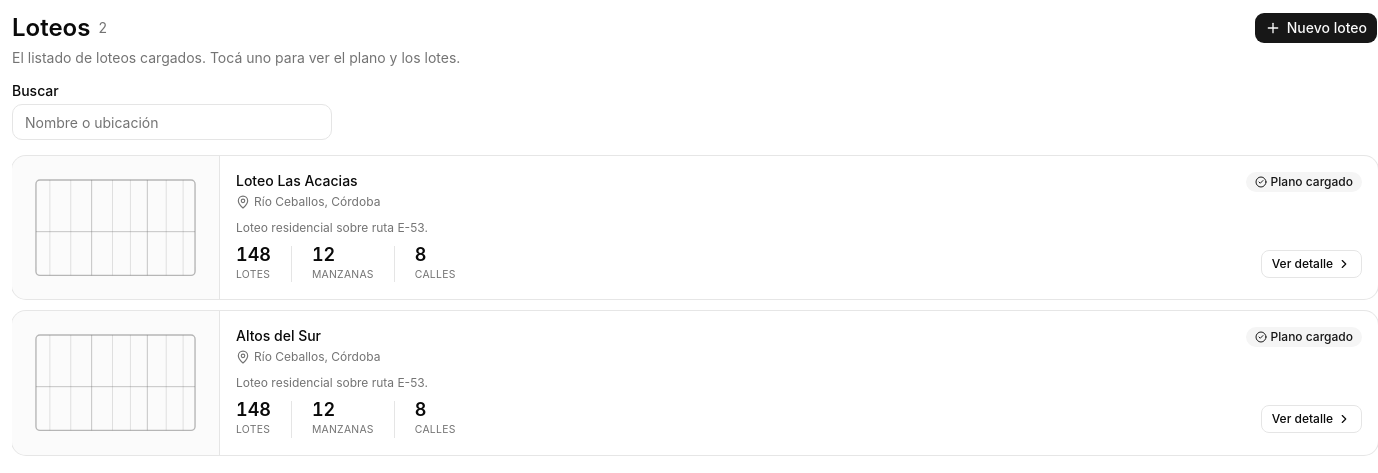
Scenario: LoteosListPage › filters the list through the search box
Expected: the link "Altos del Sur" is shown, [12,311,1377,455]
Type "acacias" into the search field labelled "Buscar" at x=172, y=122, box [12,104,332,140]
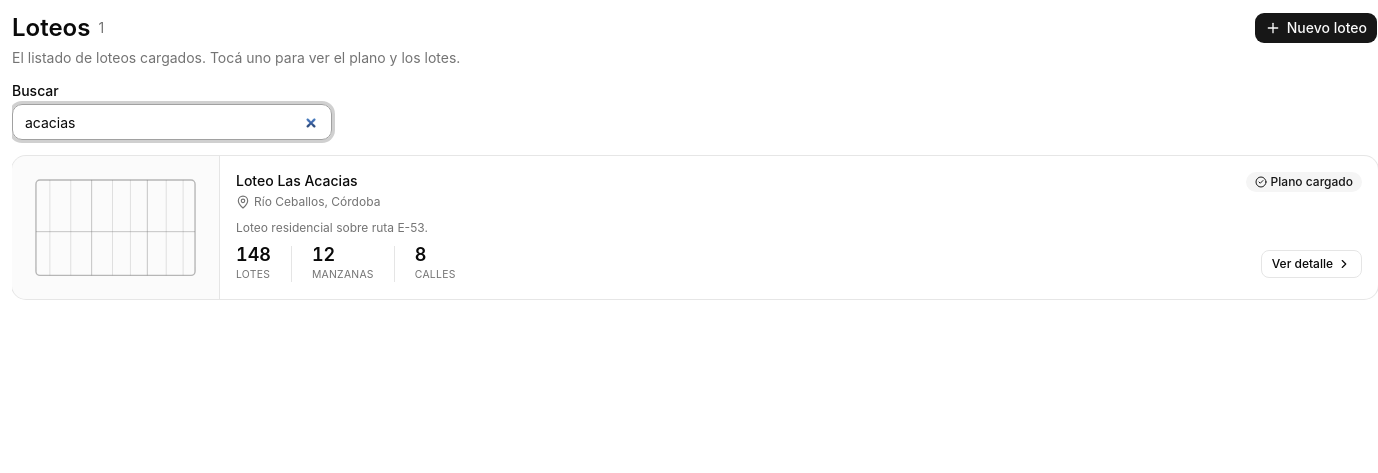
Expected: the link "Loteo Las Acacias" is shown, [12,156,1377,299]
Now the link "Altos del Sur" is gone
